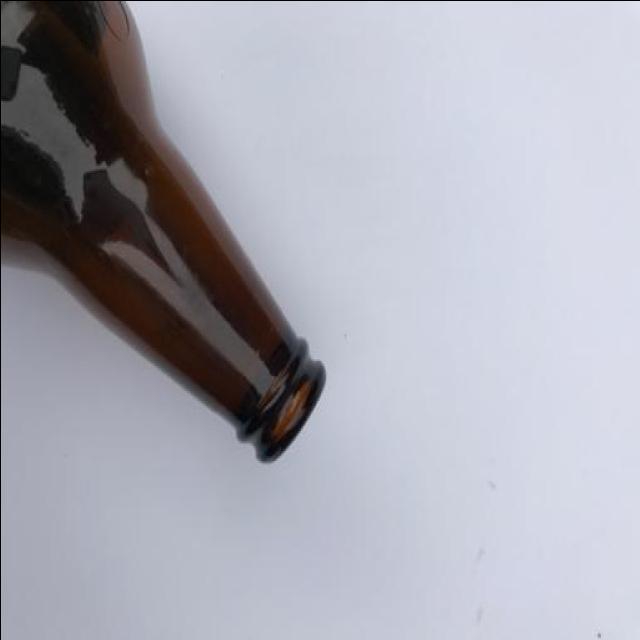glass: (1, 0, 335, 474)
